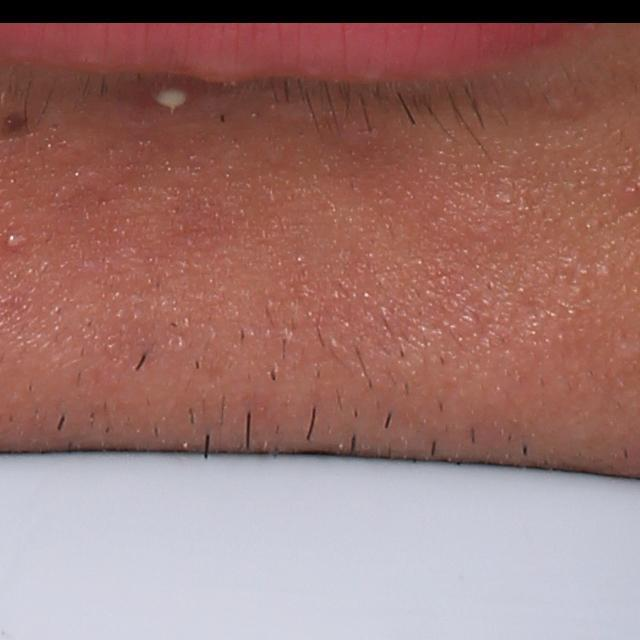nevus: (4, 112, 26, 137)
pustule: (154, 76, 199, 116), (0, 226, 28, 253)
